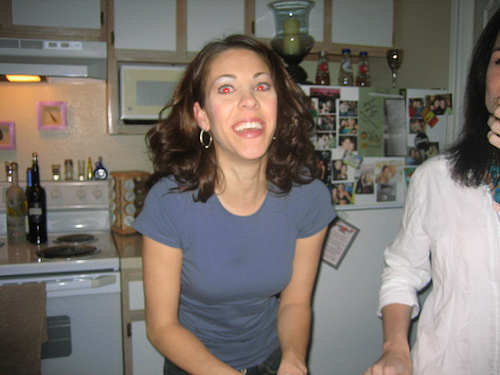without_mask: (197, 55, 281, 162)
